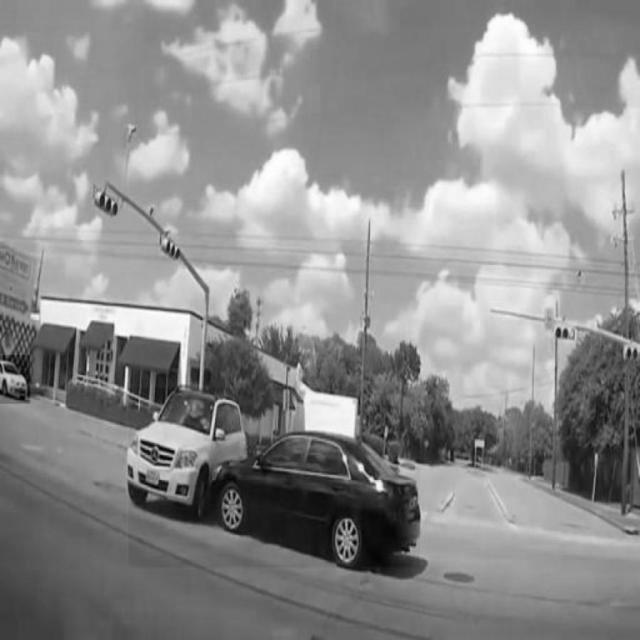accident: (129, 388, 420, 568)
vehicle: (0, 355, 30, 403)
